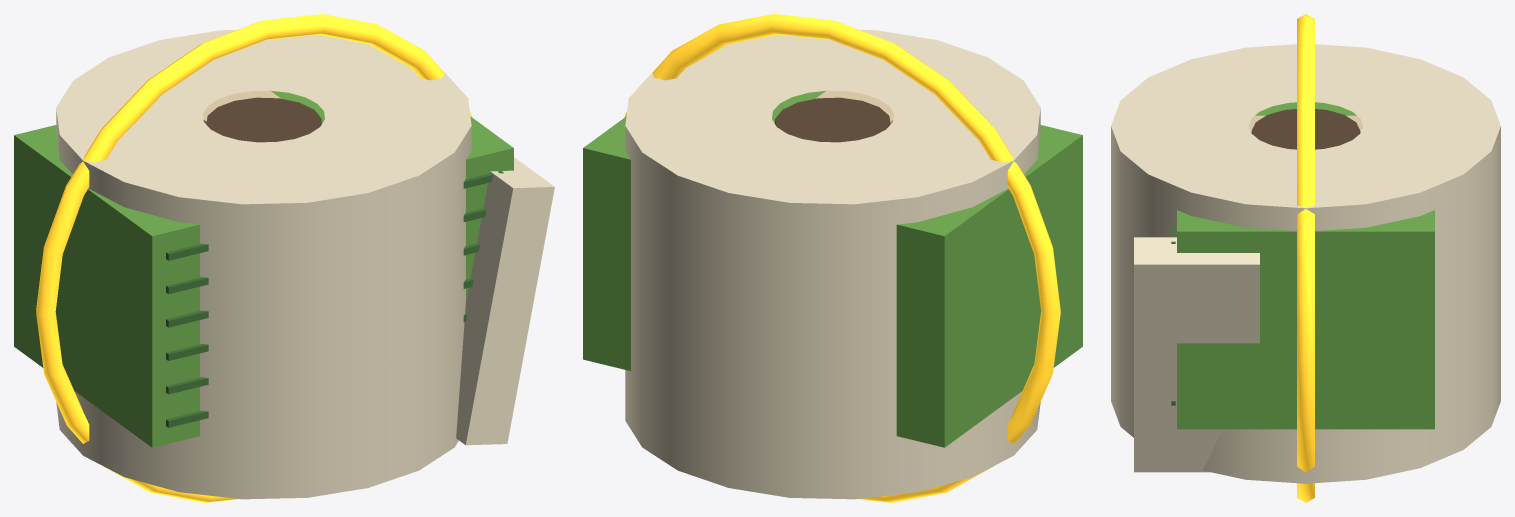
The model's file is rewards.glb.
3 renders of one model, left to right at view 1: azimuth 30°, elevation 25°; view 2: azimuth 150°, elevation 25°; view 3: azimuth 270°, elevation 25°, orthographic. The views are drawn at different scales.
Parts seen in each view (by area): view 1: tp, dollar; view 2: tp, dollar; view 3: tp, dollar.
Boxes of the visible parts, box(x1,y1,x2,y2) form: tp: box(36, 14, 554, 502); dollar: box(14, 90, 513, 447); tp: box(624, 14, 1060, 502); dollar: box(583, 90, 1082, 447); tp: box(1111, 14, 1500, 502); dollar: box(1171, 102, 1434, 429).
Size of the model in its own units: 0.856 by 0.856 by 0.68.
